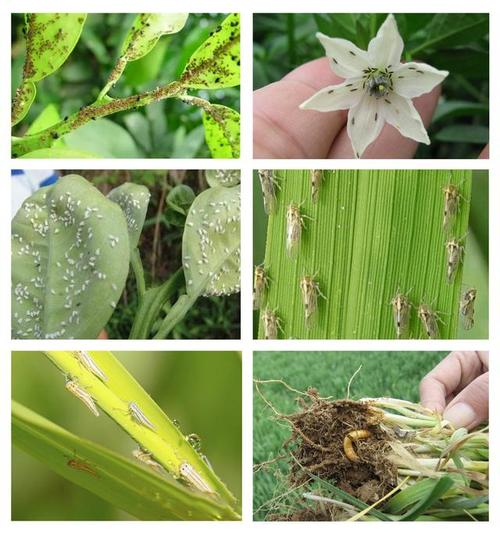Delphacidae: (281, 197, 314, 261), (296, 266, 328, 329), (384, 284, 416, 339), (439, 173, 469, 231), (415, 290, 449, 339), (62, 373, 101, 415), (110, 396, 154, 431), (257, 169, 287, 216), (440, 231, 466, 284), (130, 442, 169, 475), (61, 448, 102, 479), (178, 461, 212, 495), (73, 350, 108, 381), (252, 260, 274, 308), (454, 286, 476, 331), (261, 301, 286, 339)
